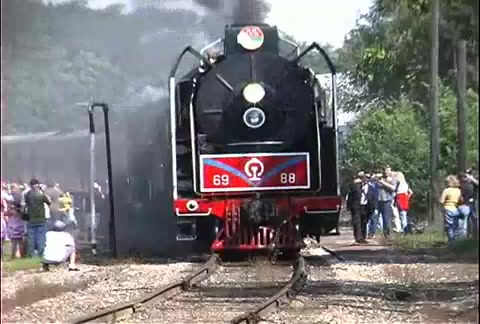train: (117, 20, 341, 257)
